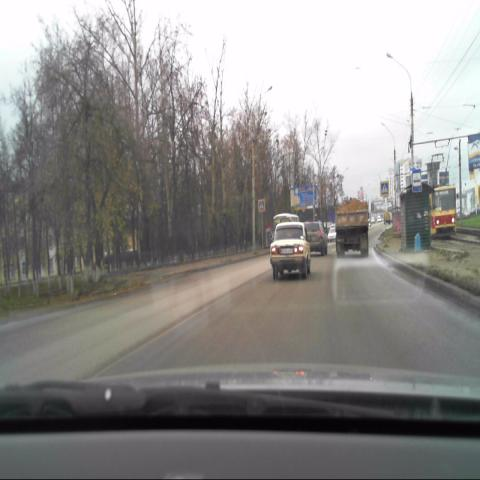5_17: (413, 171, 421, 192)
5_19_1: (380, 181, 388, 196), (258, 198, 265, 211)
